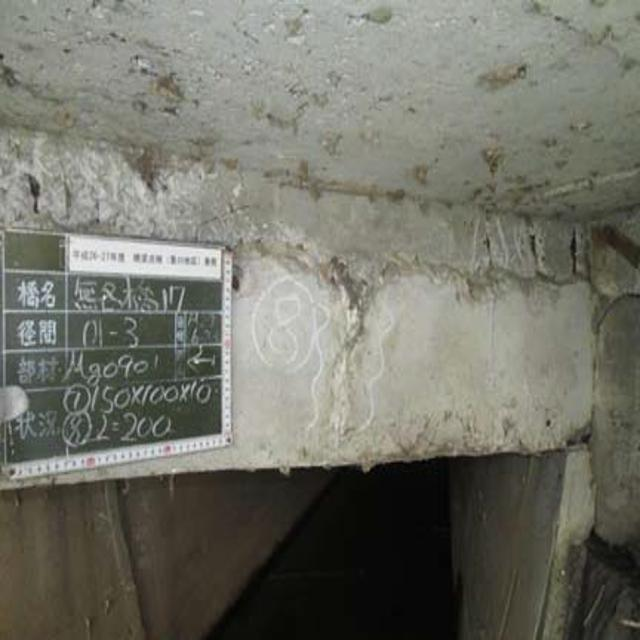spalling: (6, 138, 240, 238), (407, 195, 610, 288)
